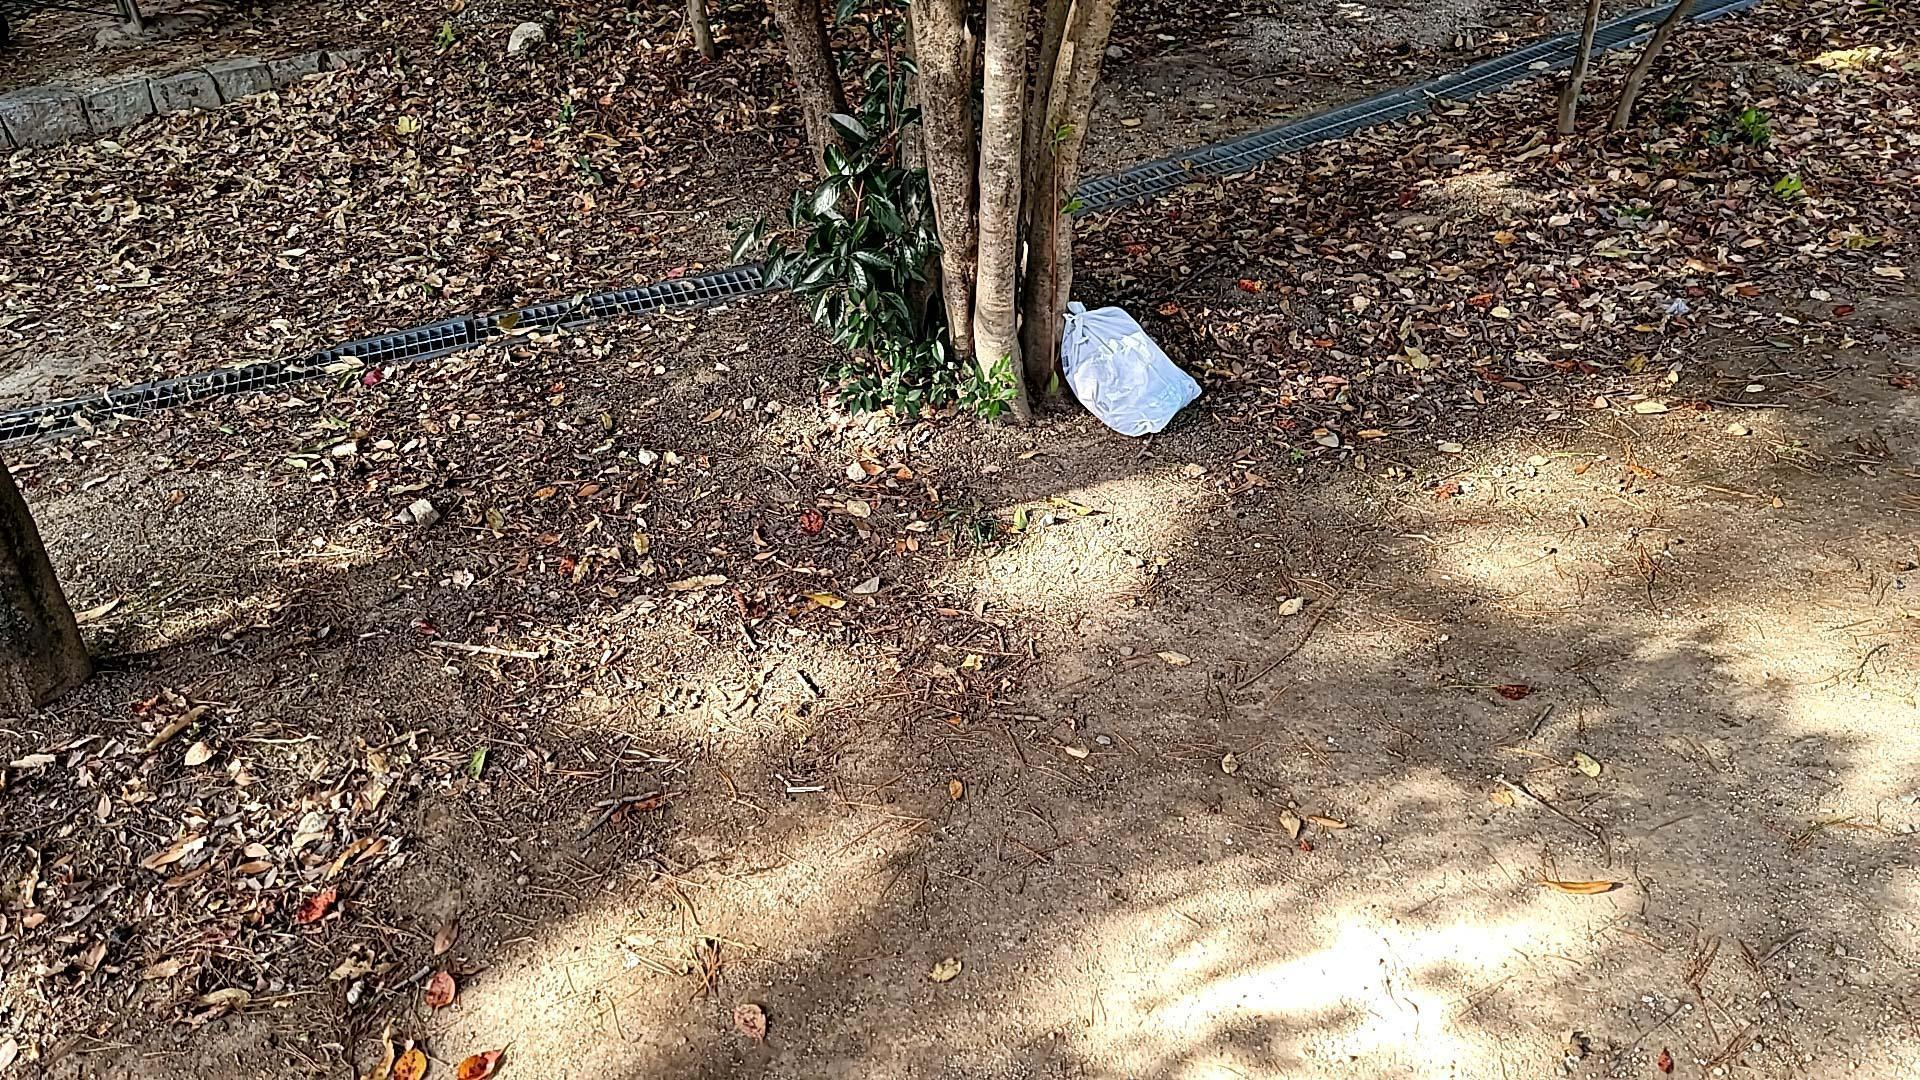white_bag: (1054, 295, 1208, 440)
